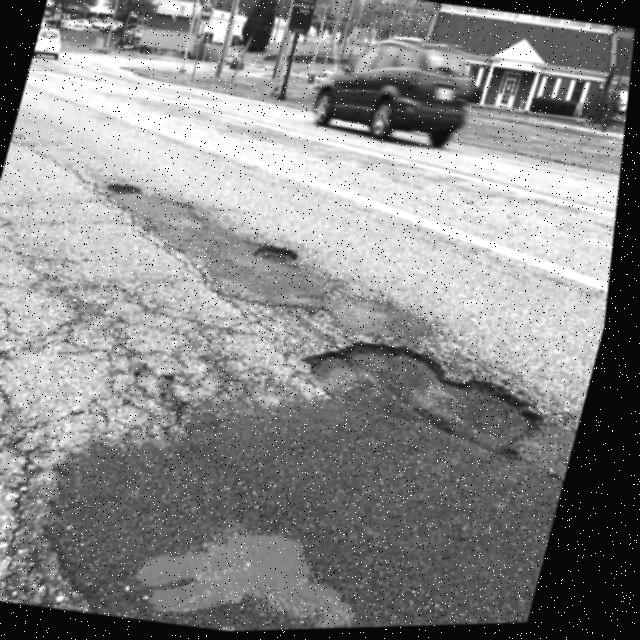pothole: (278, 312, 580, 468), (250, 232, 316, 282)
